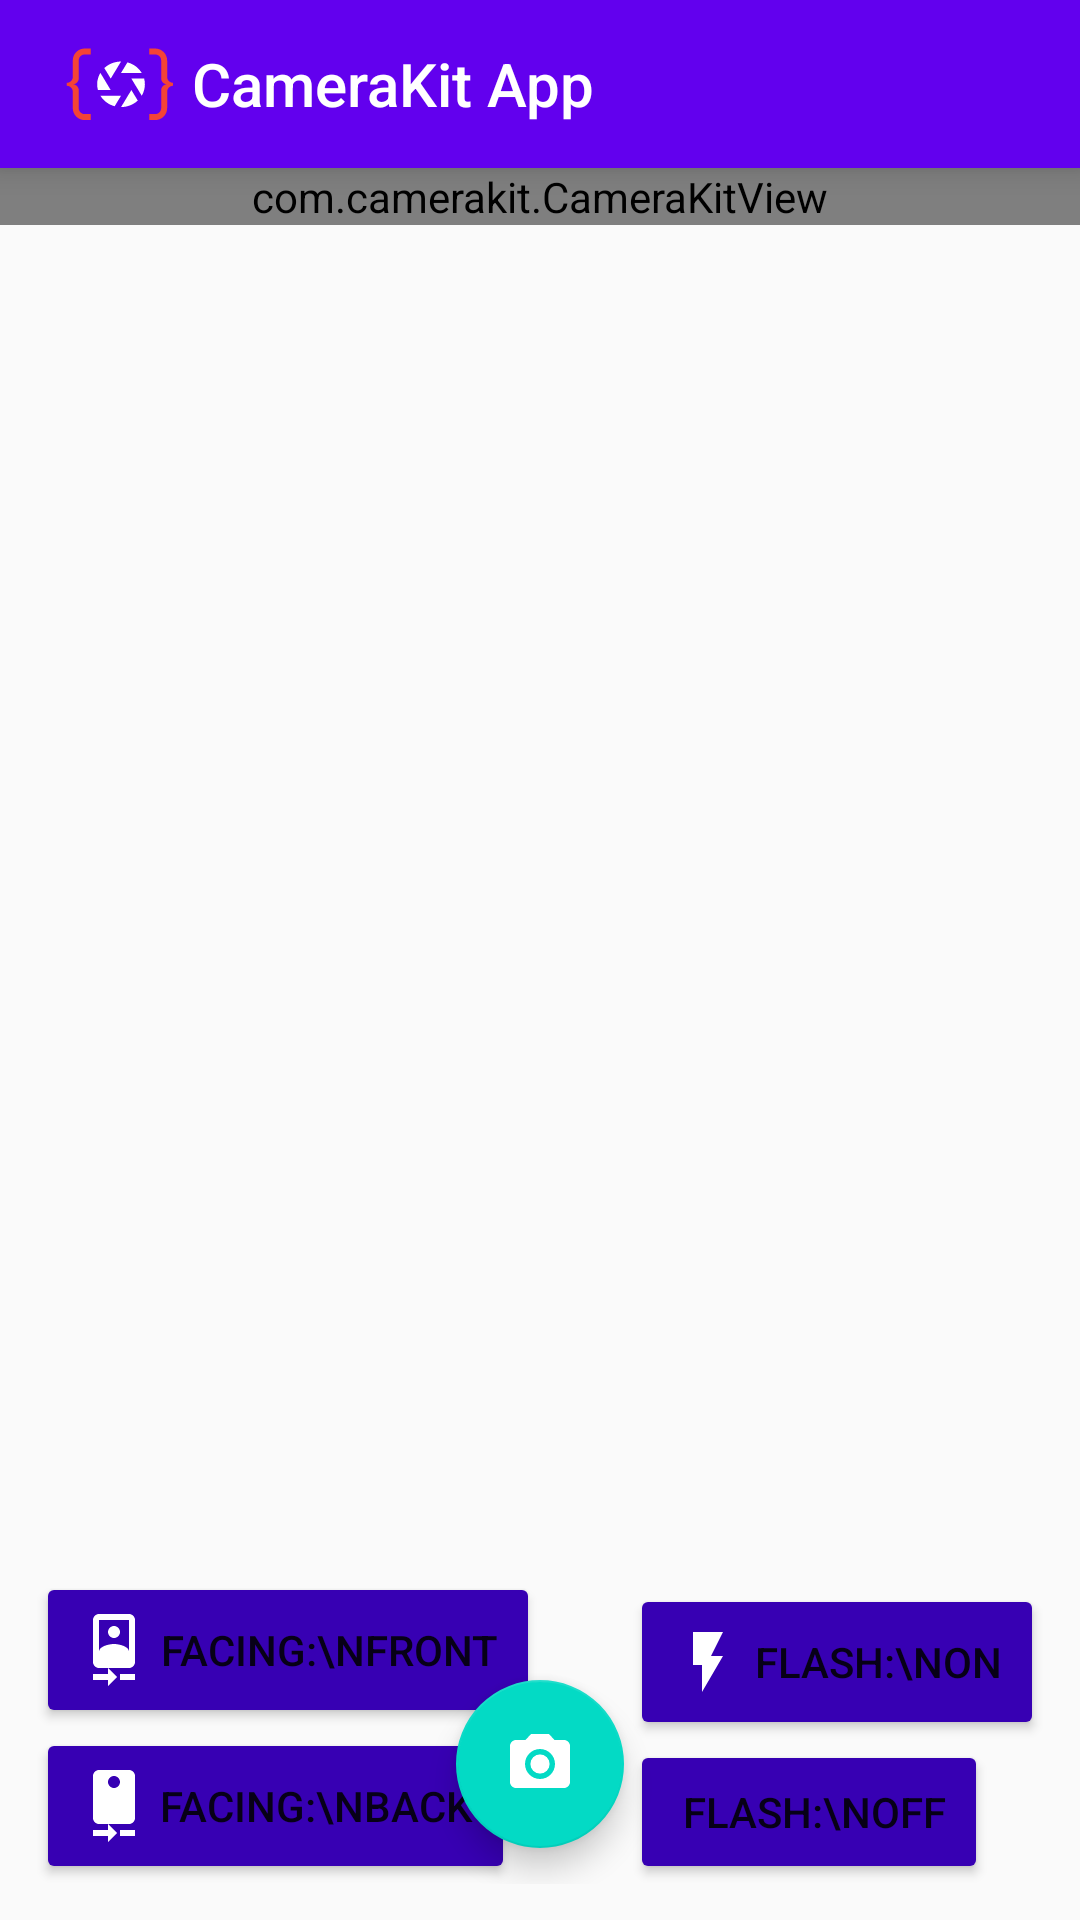

Icons on this 1080 × 1920 Android screen, each with the point to tap as (x=x, y=y):
photo: (x=540, y=1764)
